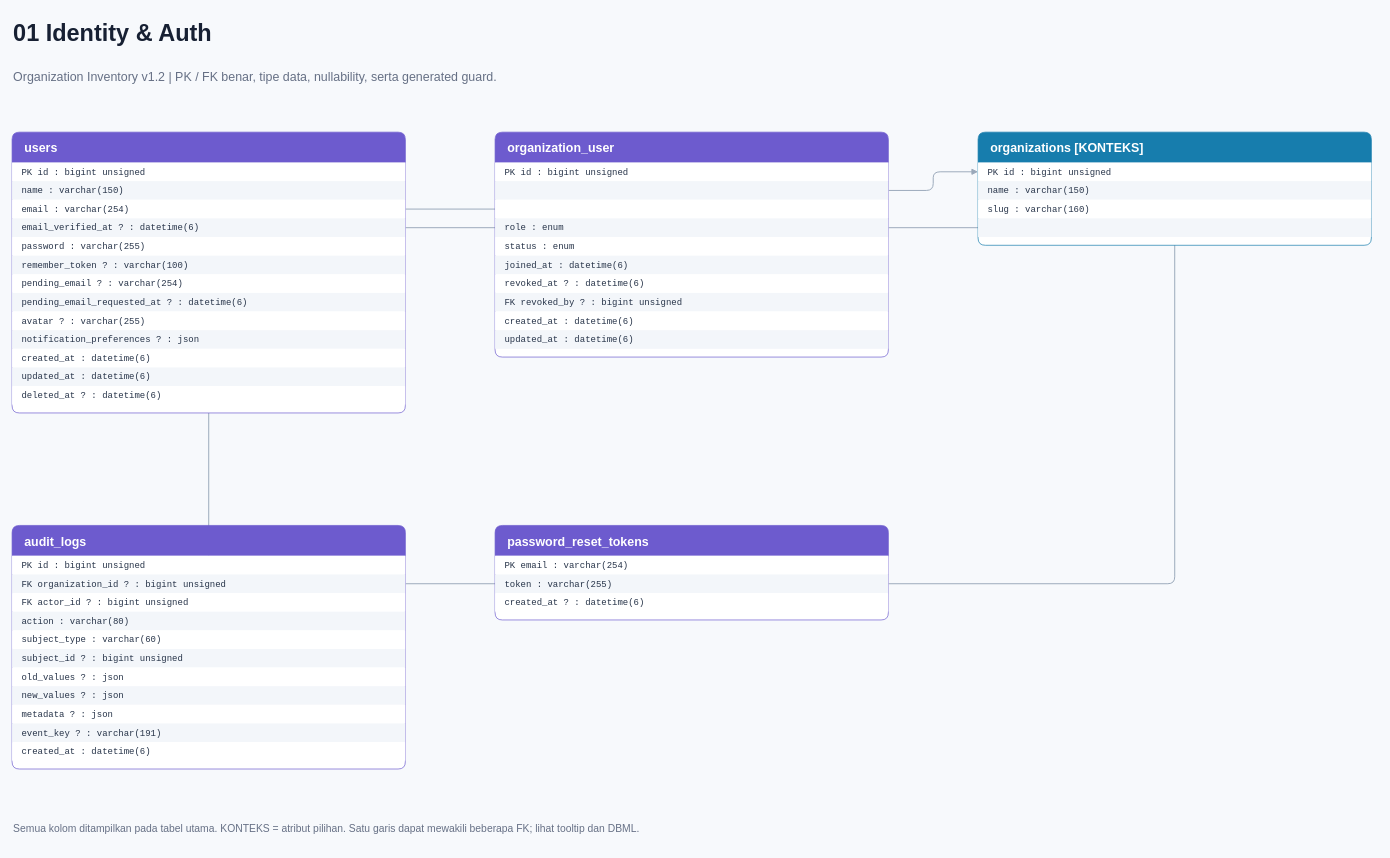
The diagram is 1390 pixels wide and 858 high, and some of its shapes have lost their labels. The centre of each missing label's shape, as x and y in pixels:
"FK created_by : bigint unsigned" belongs at (x=1174, y=227).
"FK organization_id : bigint unsigned" belongs at (x=691, y=190).
"FK user_id : bigint unsigned" belongs at (x=691, y=208).
